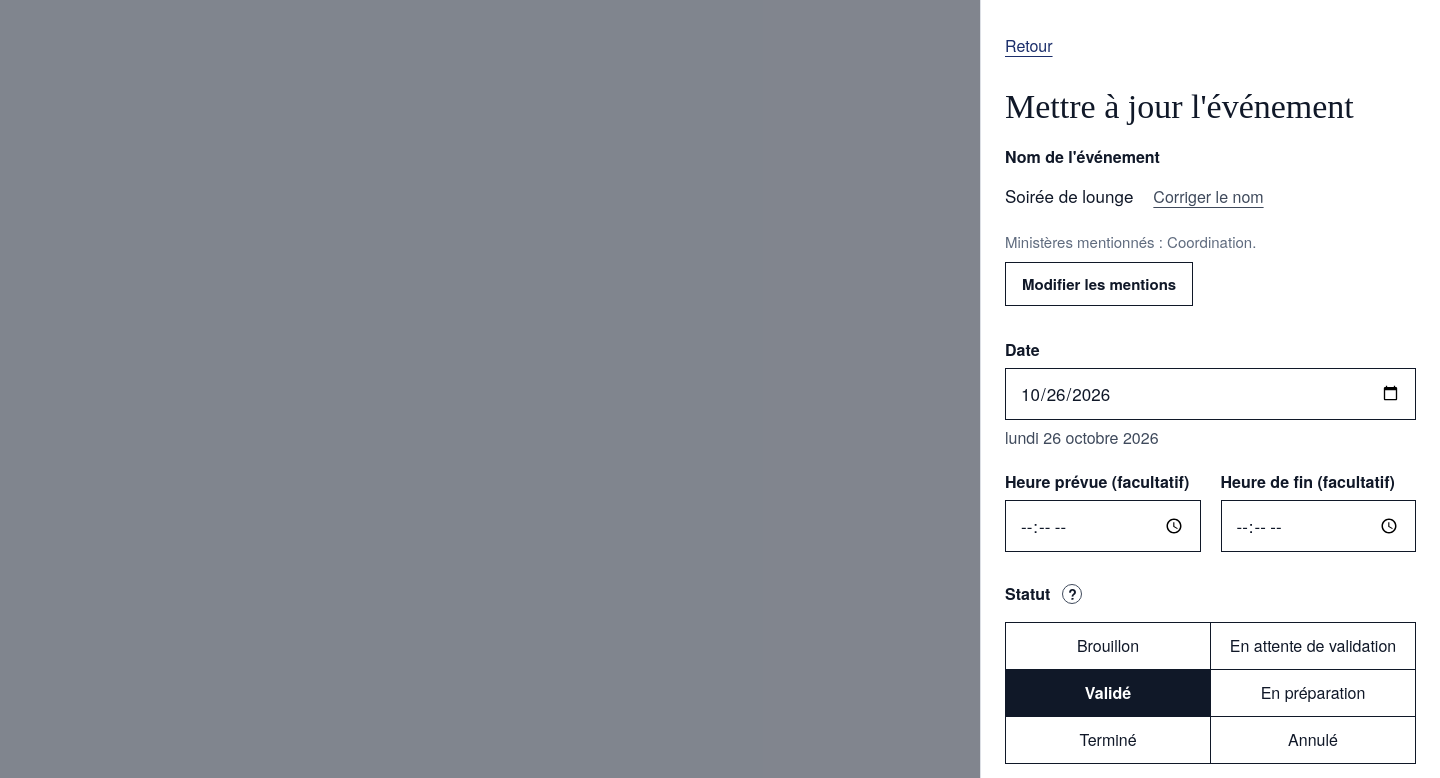
panneau du porteur, avant la date (T78) › corriger le nom : prérempli, même nom refusé avant l’envoi, nouveau nom envoyé sans espaces
The width and height of the screenshot is (1440, 778).
Click the button "Corriger le nom" at (1209, 197), box [1149,175,1268,219]
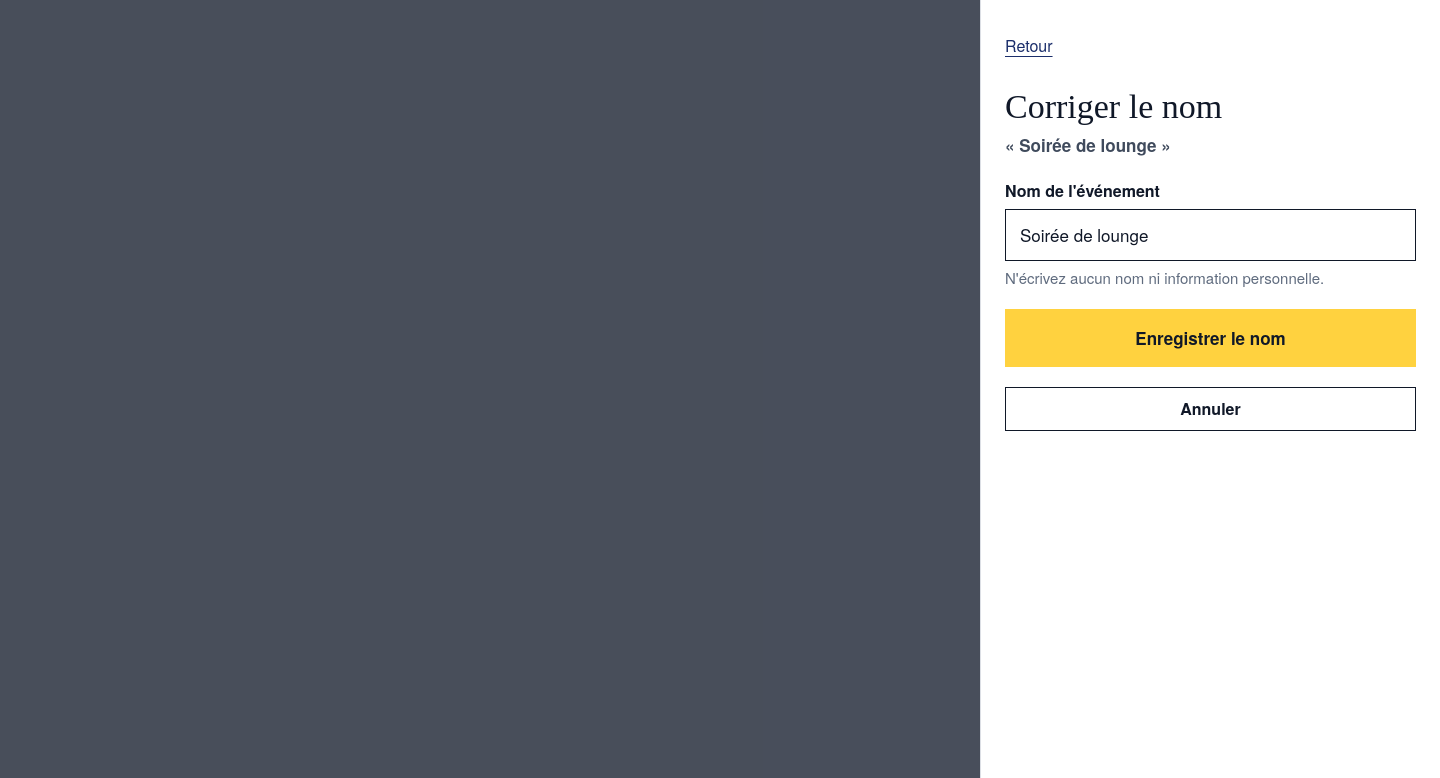
Expected: the field labelled "Nom de l'événement" holds "Soirée de lounge", [1005,209,1416,261]
Click the button named "Enregistrer le nom" at (1210, 338), box [1005,309,1416,367]
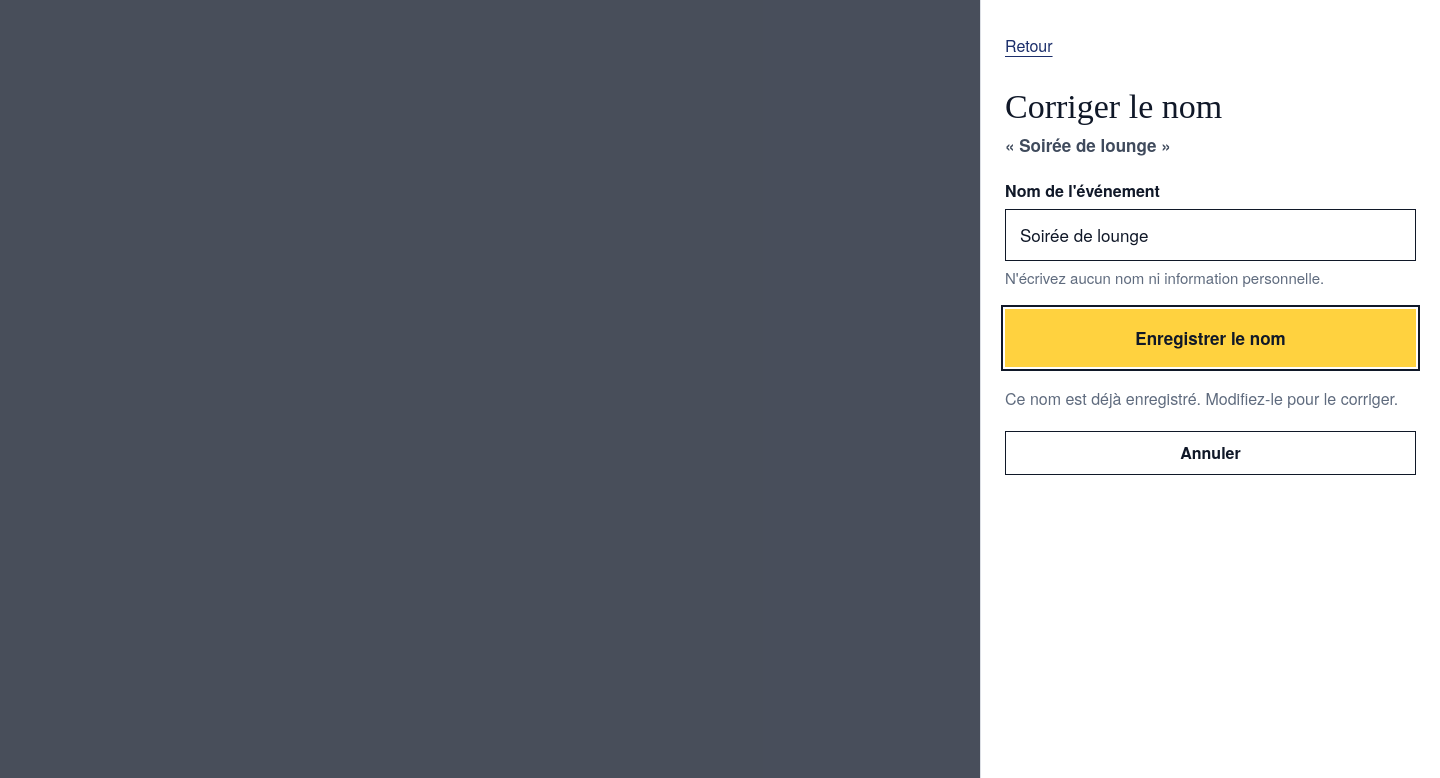
Expected: the text "Ce nom est déjà enregistré. Modifiez-le pour le corriger." is shown, [1005,387,1416,411]
Clear the field labelled "Nom de l'événement" at (1210, 235), box [1005,209,1416,261]
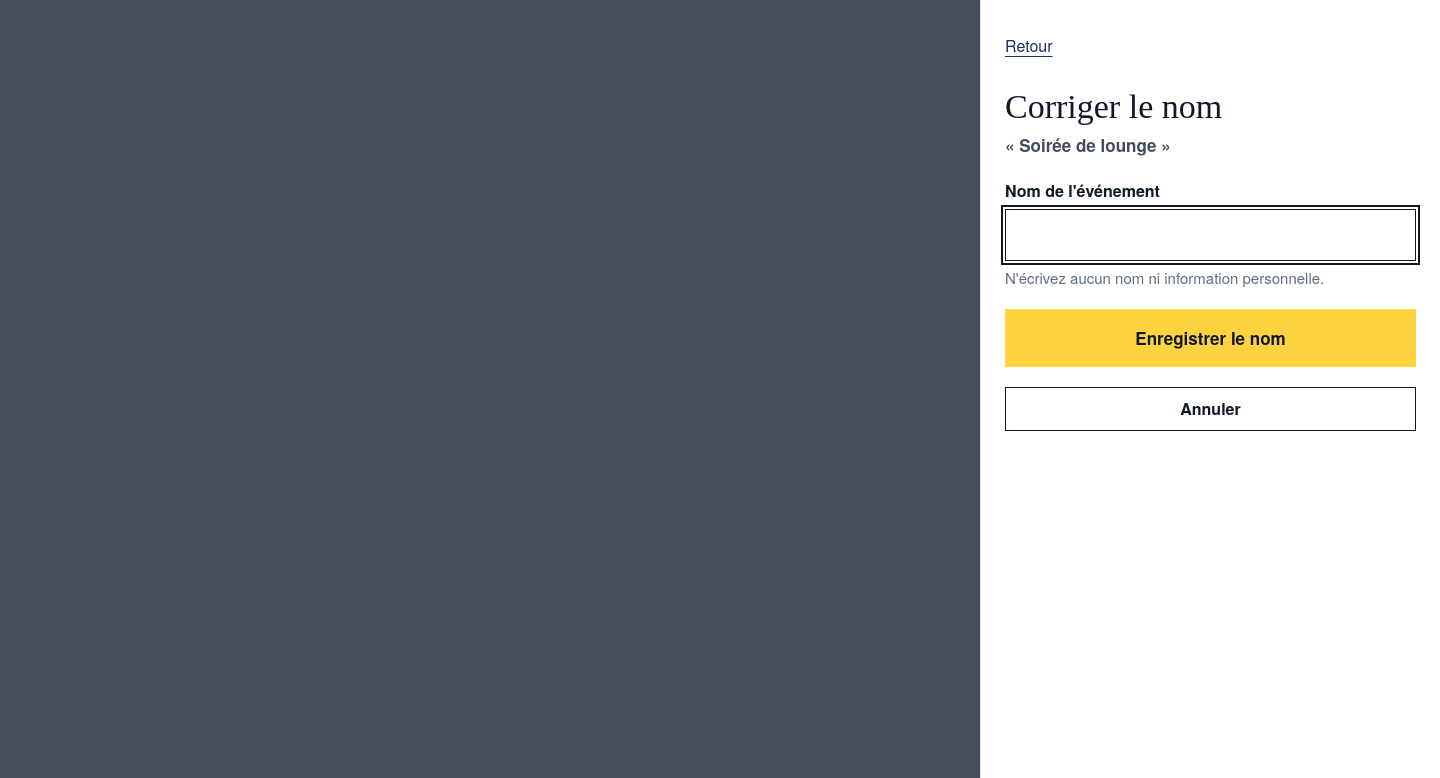
Click the button named "Enregistrer le nom" at (1210, 338), box [1005,309,1416,367]
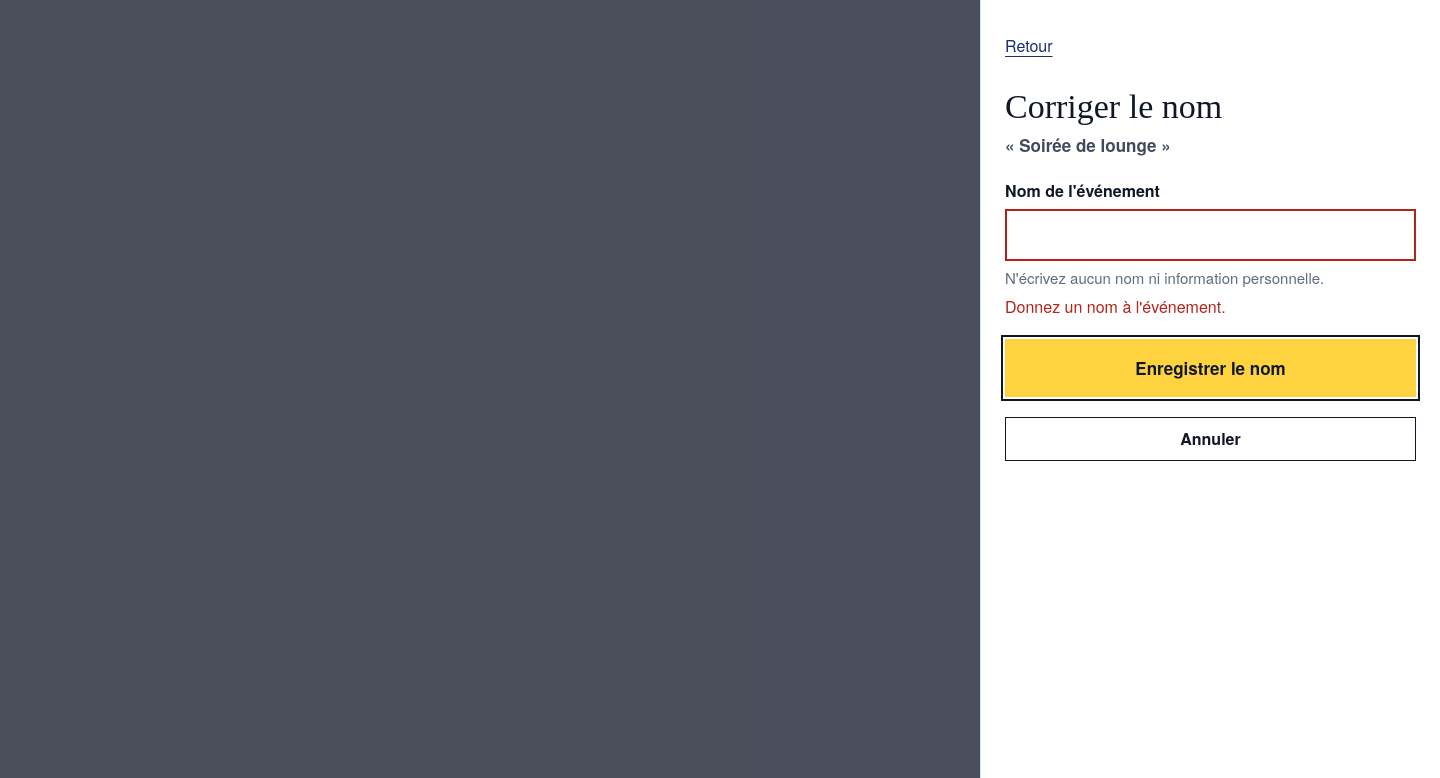
Type "  Soirée de louange  " into the field labelled "Nom de l'événement" at (1210, 235), box [1005,209,1416,261]
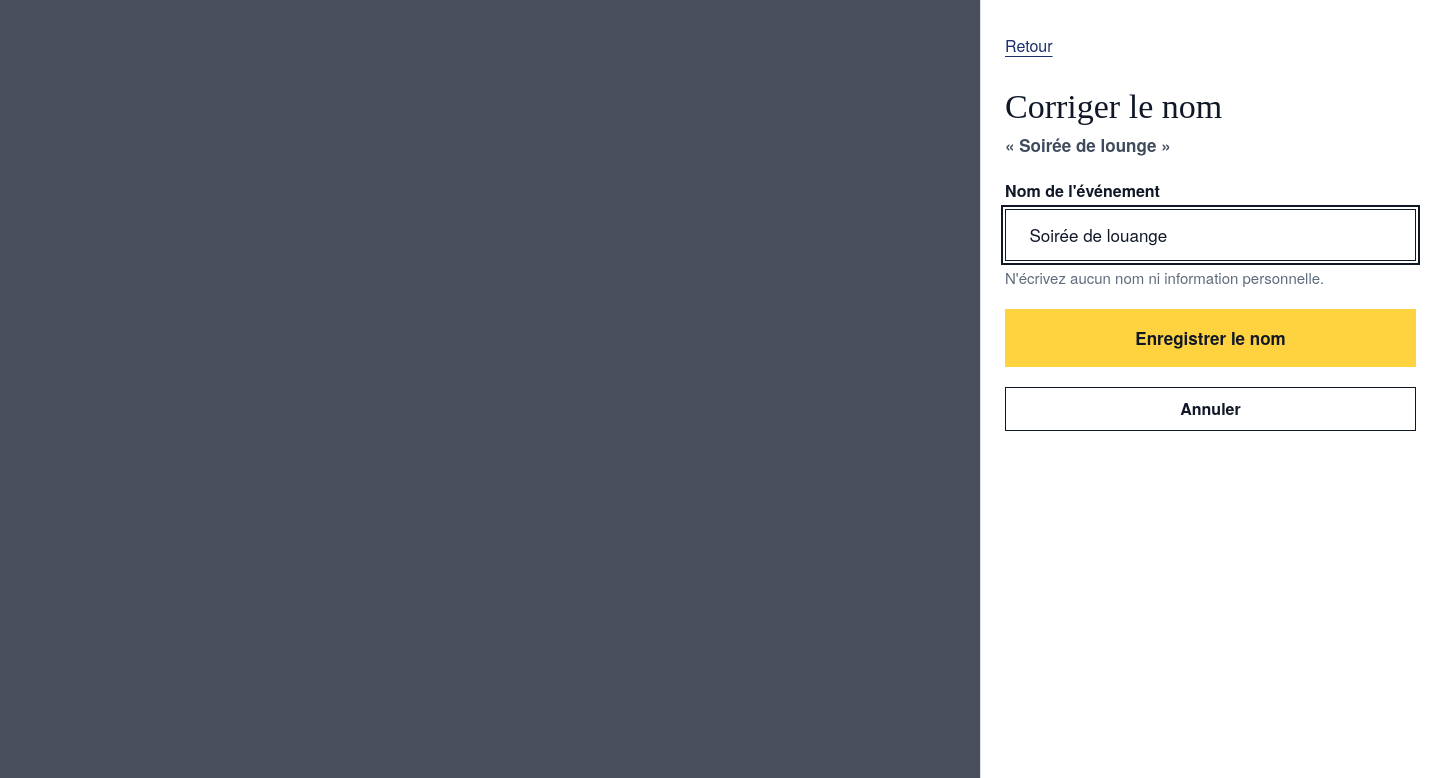
Click the button named "Enregistrer le nom" at (1210, 338), box [1005,309,1416,367]
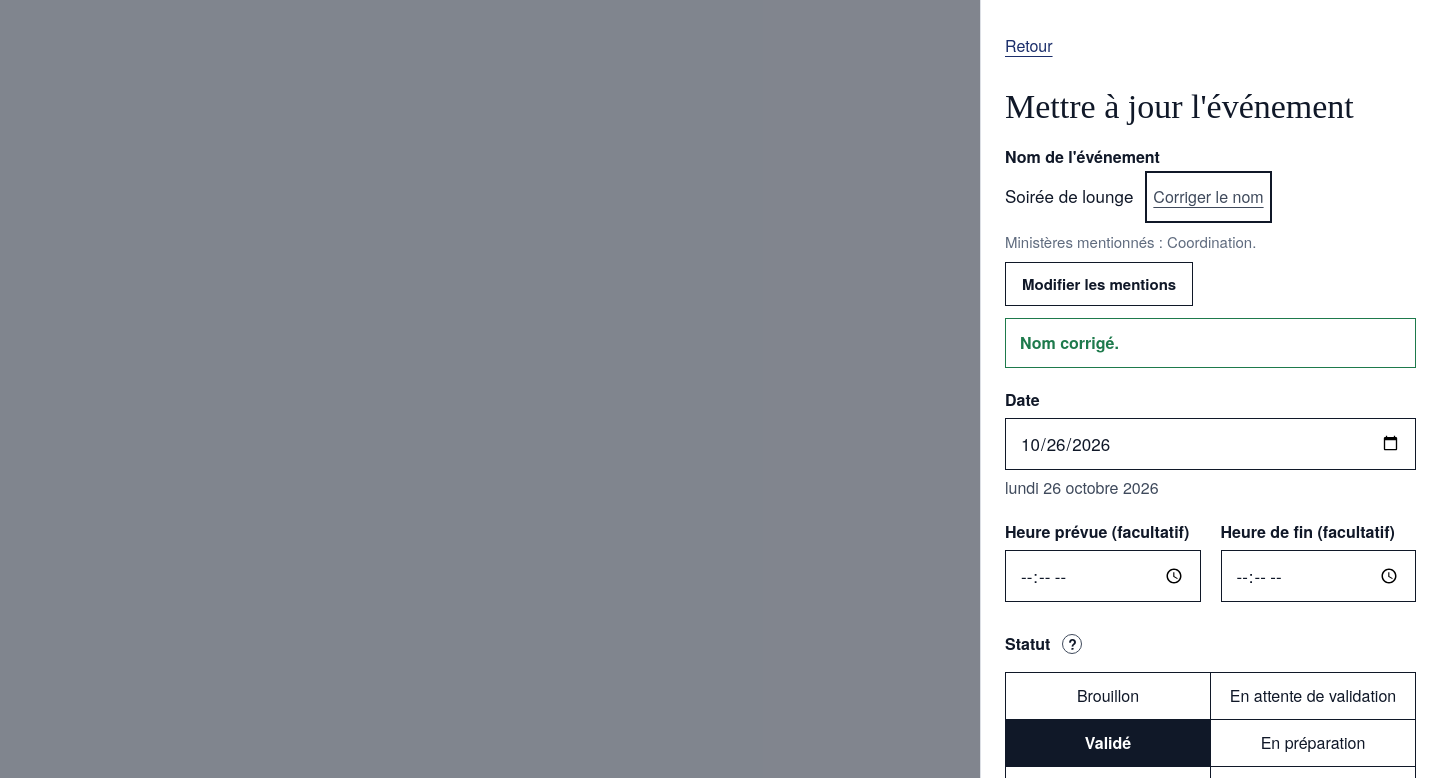
Expected: the text "Nom corrigé." is shown, [1005,318,1416,368]
